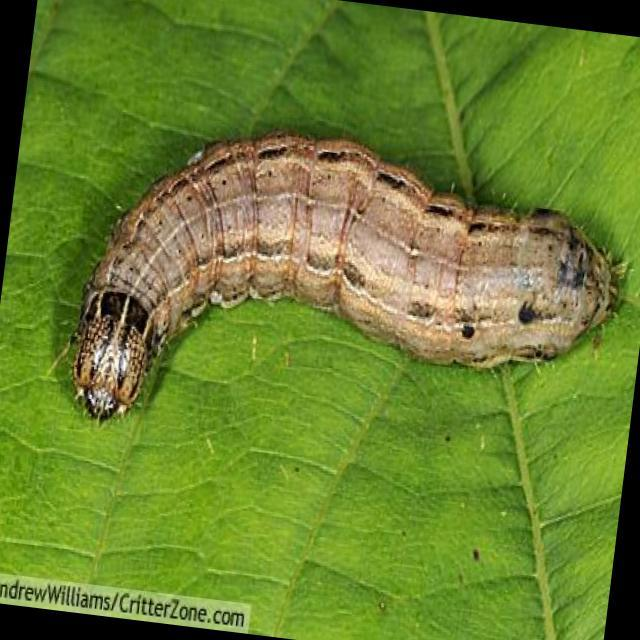Plaga: (58, 90, 640, 491)
